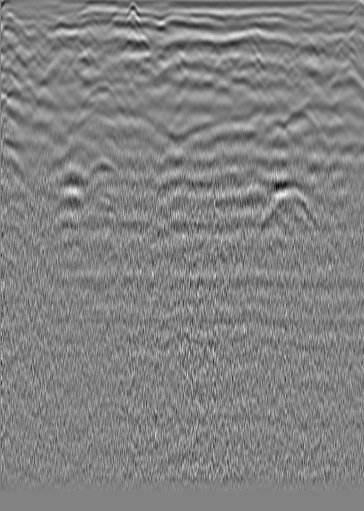가스: (51, 164, 85, 203)
상수: (327, 29, 347, 49)
오수: (24, 25, 44, 45)
우수: (184, 33, 204, 53)
